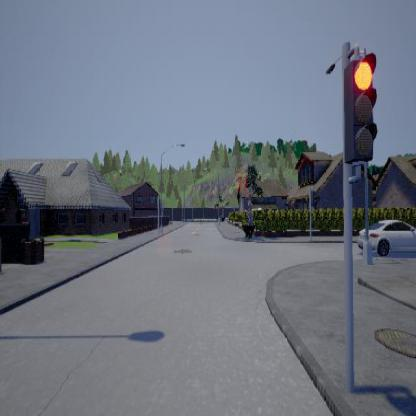traffic_light_red: (343, 43, 377, 183)
vehicle: (358, 219, 416, 255)
